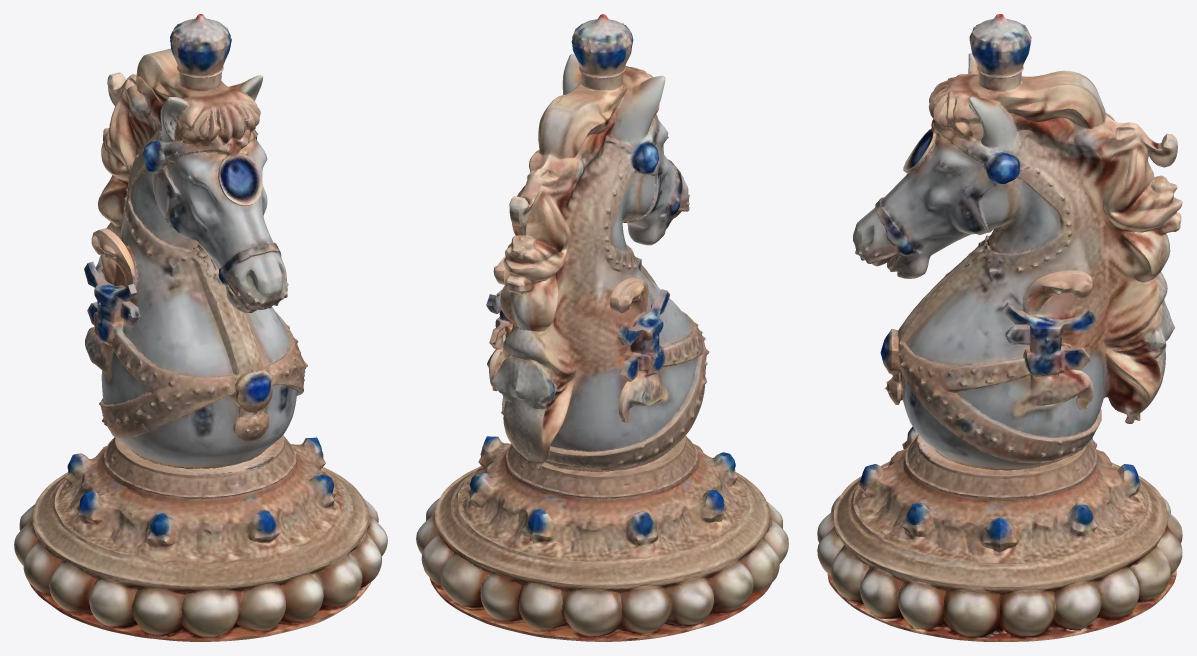
File: knight_white.glb
3 views of the same model, side by side, from view 1: azimuth 30°, elevation 25°; view 2: azimuth 150°, elevation 25°; view 3: azimuth 270°, elevation 25° (orthographic).
Visible parts, largest first — view 1: model; view 2: model; view 3: model.
Part boxes in pixels (x1,y1,x2,y2): model: (14,14,387,641); model: (416,14,788,641); model: (817,14,1182,641).
Bounding box in the file's own units: 1.13 × 1.9 × 1.12.
Materials: 1 (1 with a texture image).
